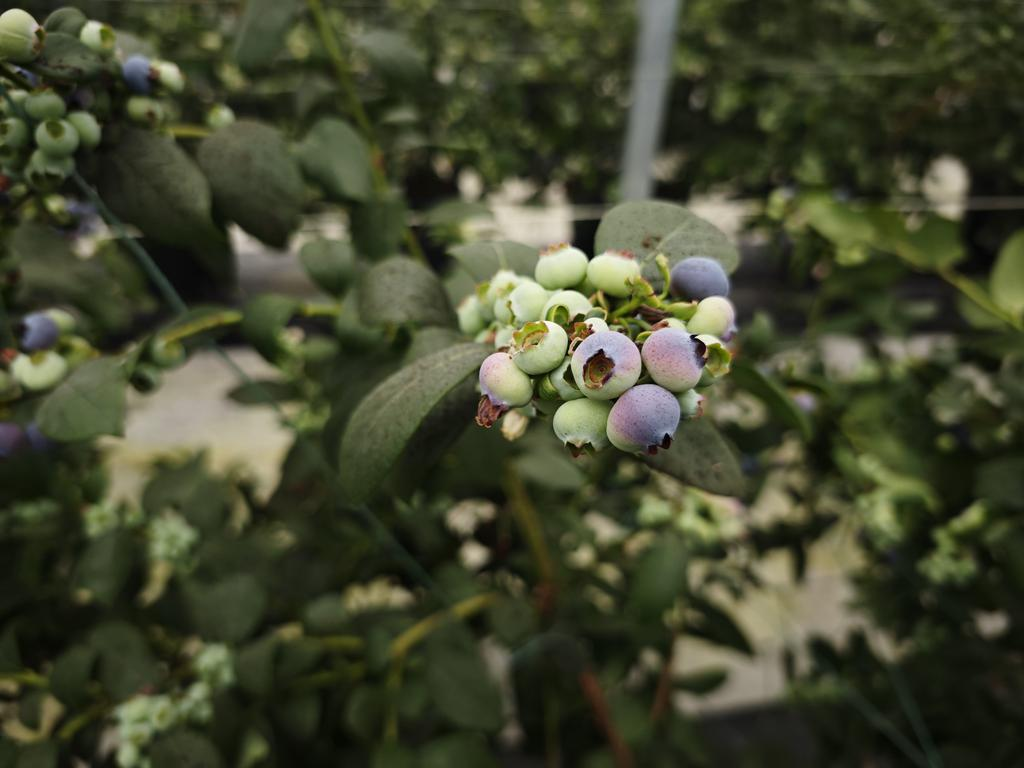RipeBlueBerry: (672, 254, 732, 301)
Semi-RipeBlueBerry: (604, 380, 683, 457), (570, 330, 645, 403), (642, 325, 711, 392)
UnripeBlueBerry: (508, 317, 569, 377)
